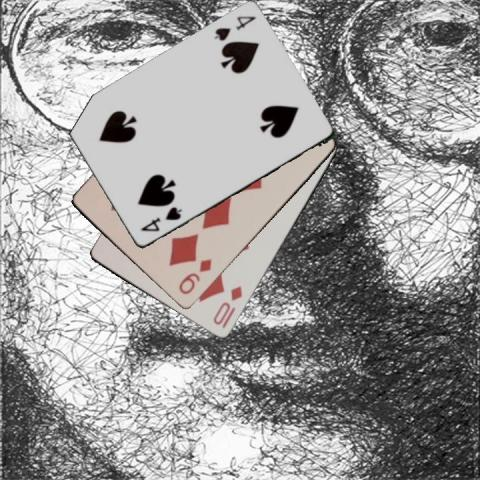10d: (210, 284, 244, 328)
4s: (138, 204, 184, 234), (210, 13, 256, 43)
9d: (176, 256, 214, 297)
